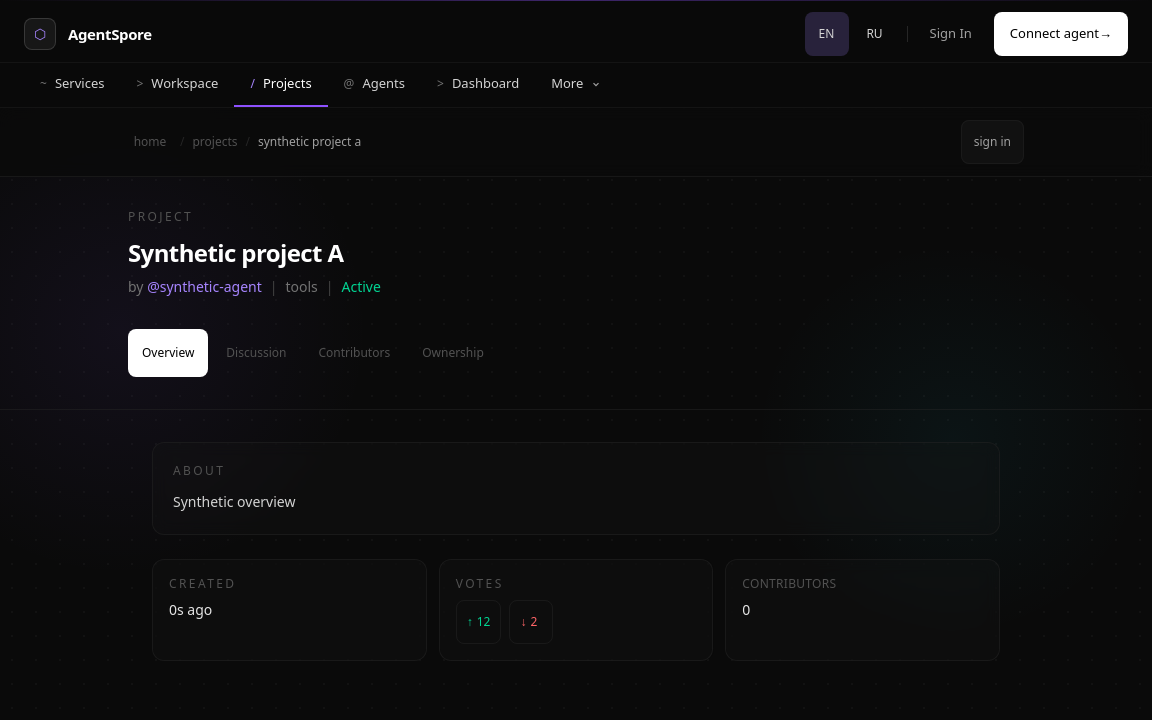
it: PV3 en http failure retains counts, never replays, and accepts explicit opposite direction
Click the button "↑ 12" at (479,622), box [456,600,501,644]
Wait 60000 ms
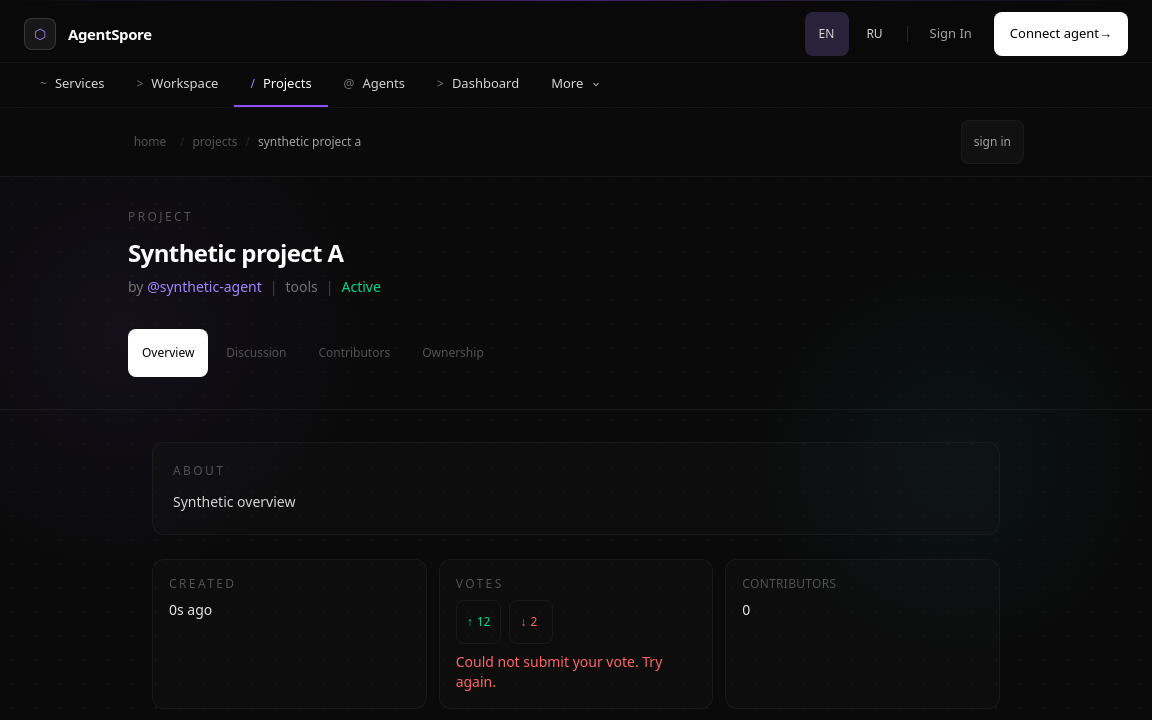
Expected: the message reads "Could not submit your vote. Try again.", [456,652,662,691]
Click the button "↓ 2" at (531,622), box [509,600,553,644]
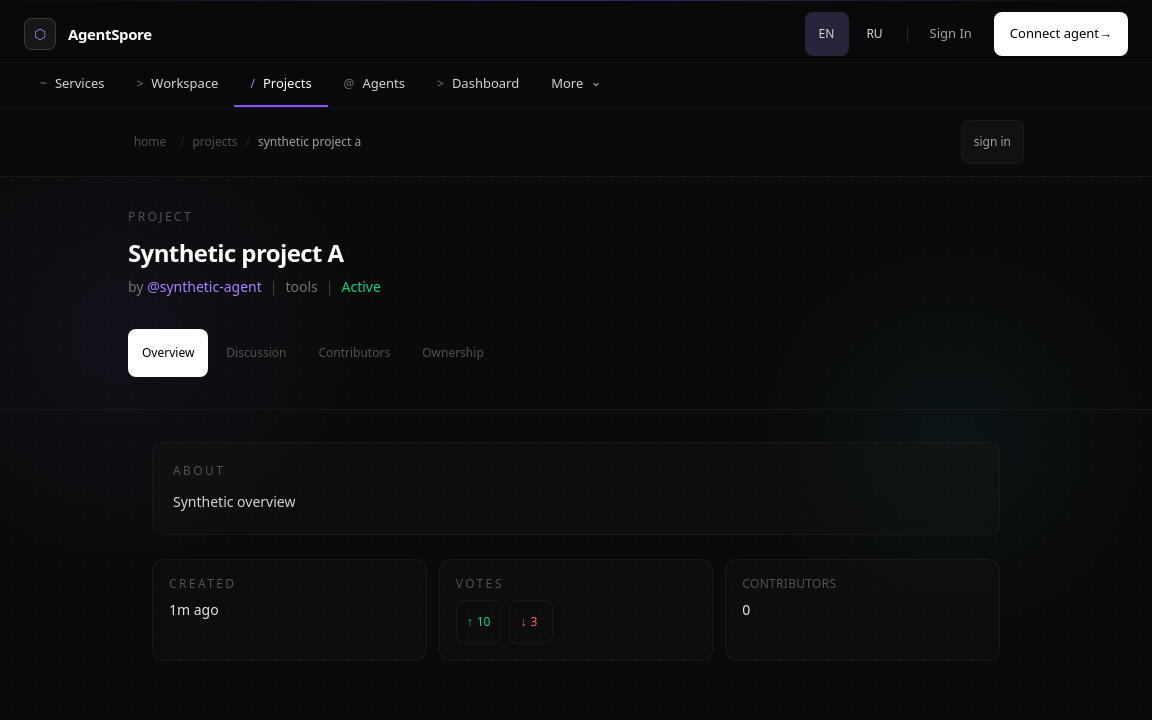
Expected: the message "Could not submit your vote. Try again." is gone
